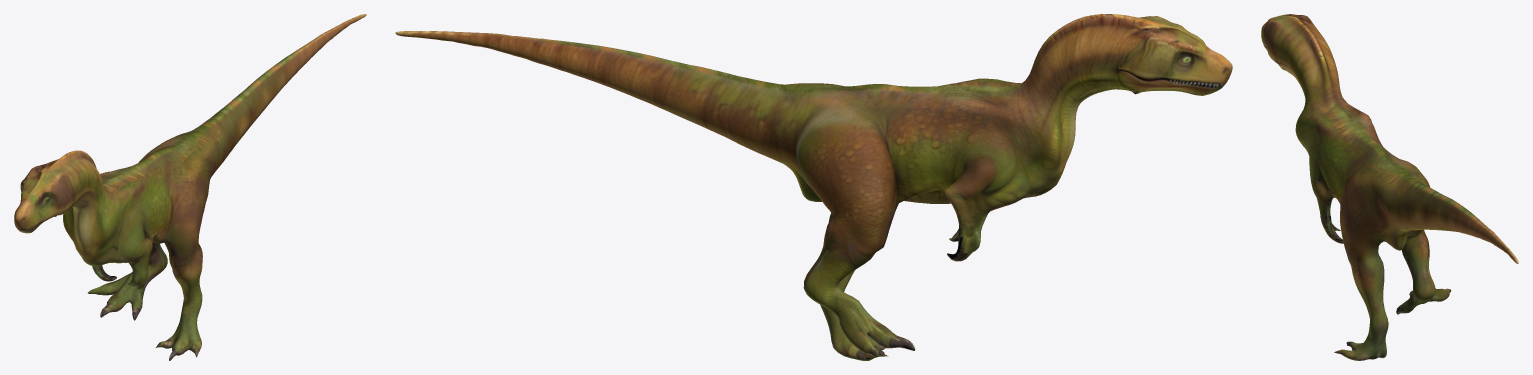
3 renders of one model, left to right at view 1: azimuth 30°, elevation 25°; view 2: azimuth 150°, elevation 25°; view 3: azimuth 270°, elevation 25°, orthographic. The views are drawn at different scales.
Visible parts, largest first — view 1: Mesh0.001; view 2: Mesh0.001; view 3: Mesh0.001.
Part boxes in pixels (x1,y1,x2,y2): Mesh0.001: (14, 14, 366, 360); Mesh0.001: (395, 14, 1232, 360); Mesh0.001: (1261, 14, 1518, 360).
Size of the model in its own units: 0.0762 by 0.039 by 0.035.
1 material, 1 textured.
